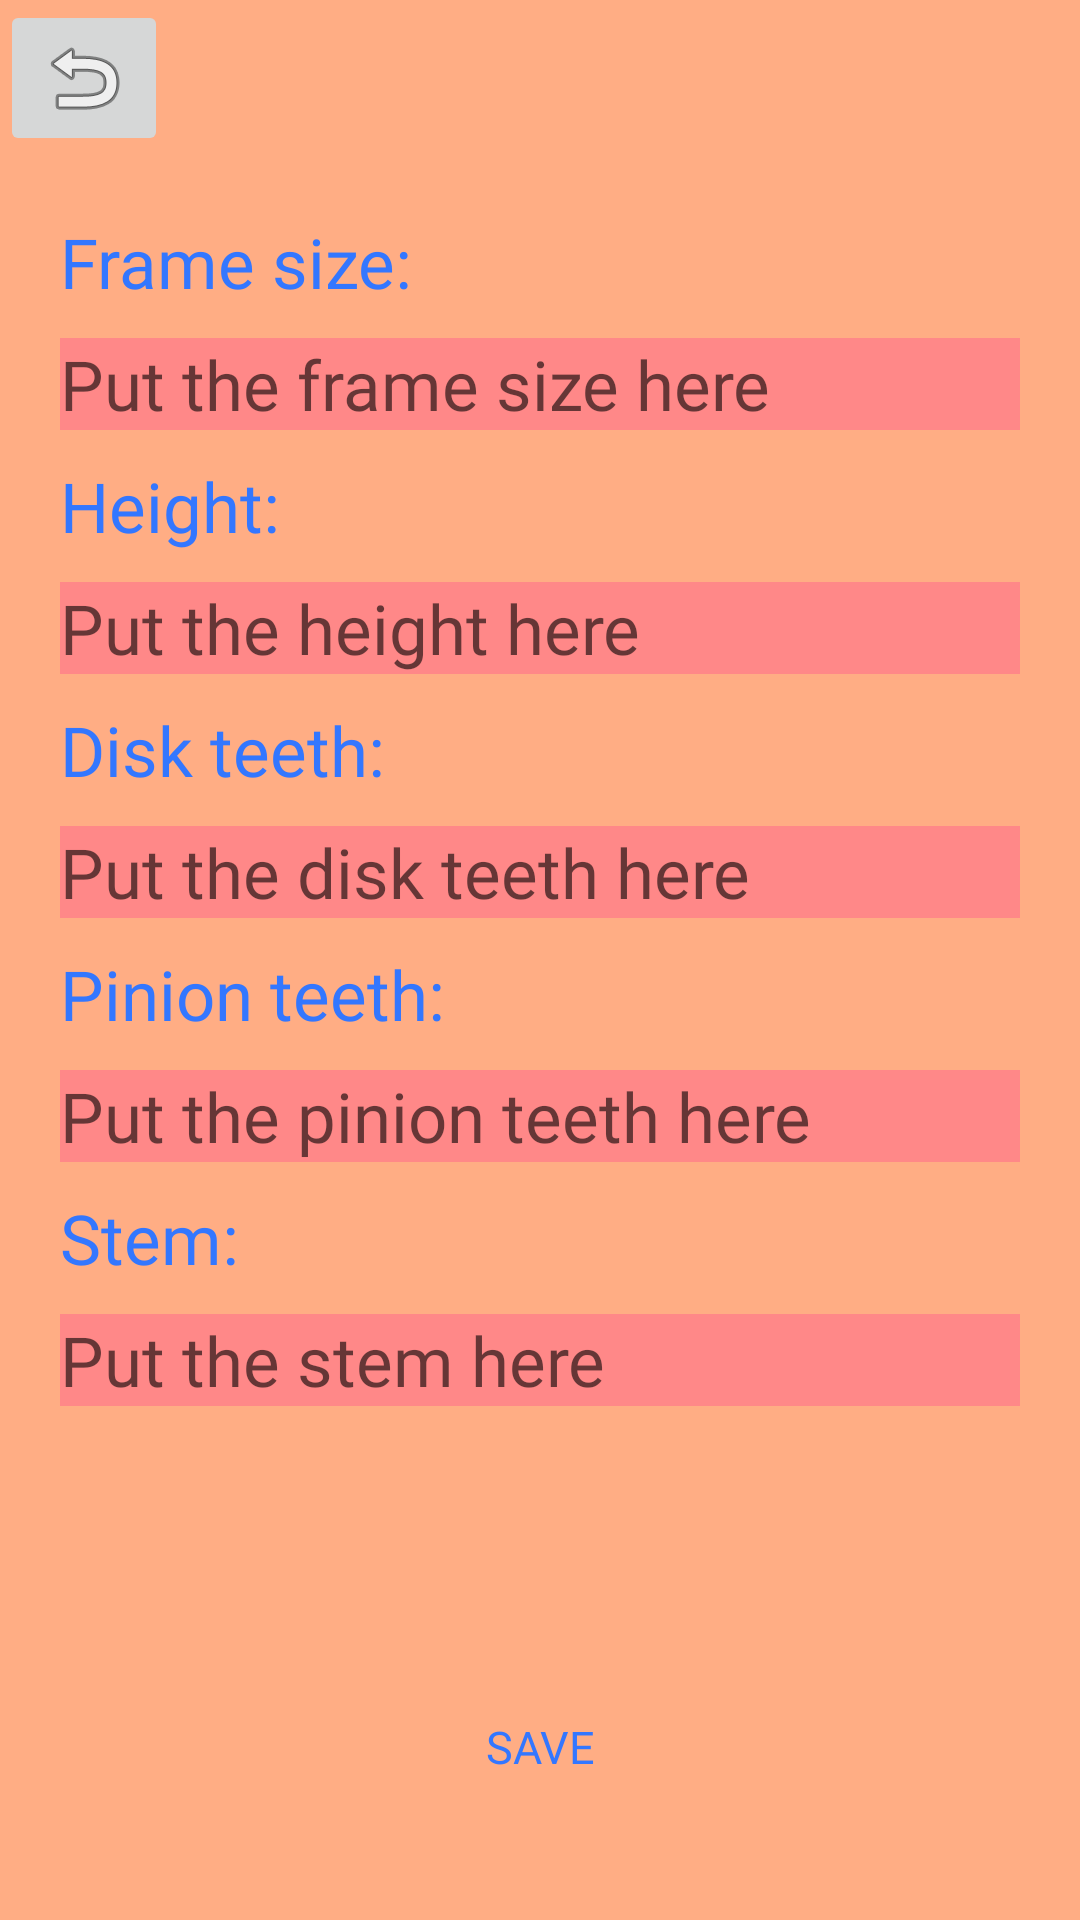

Screen size 1080w x 1920h. Icon name, then its box in pixels as (x1, y1, x2, y2):
Back: (12, 18, 156, 138)
